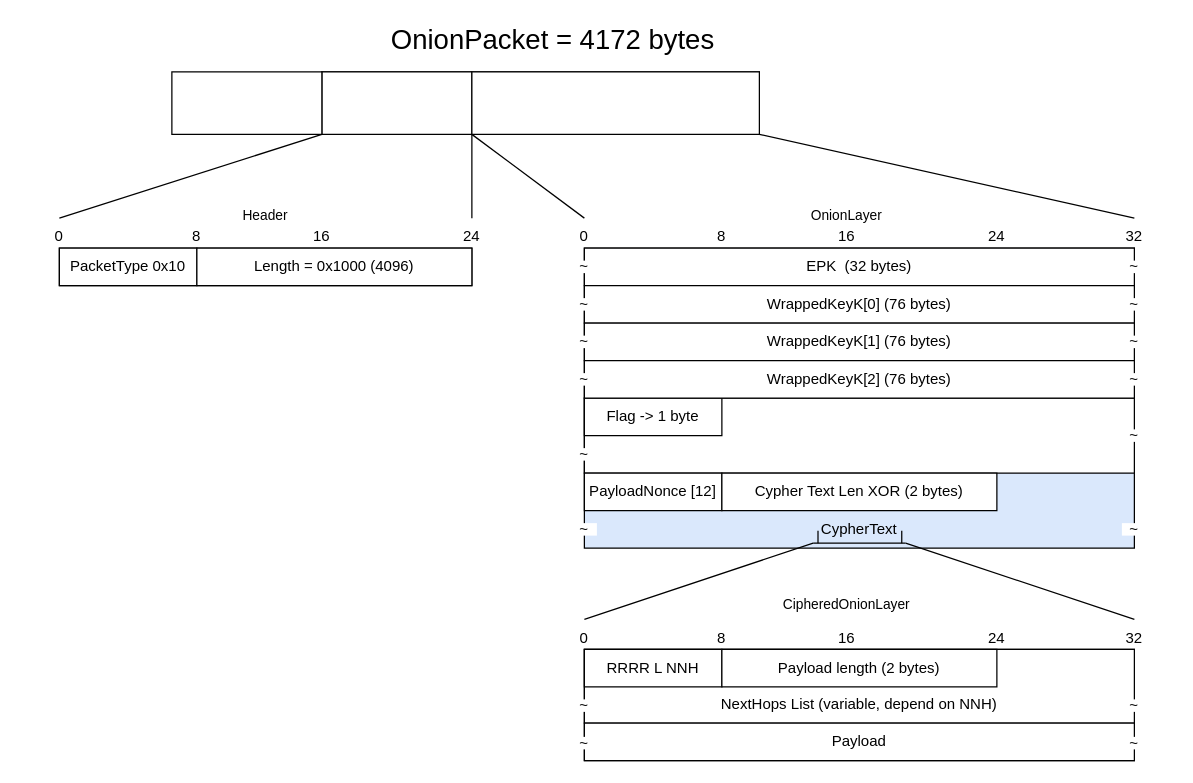
The diagram is 1193 pixels wide and 783 high, and some of its shapes have lost their labels. Each missing label, with the box of its shape:
Data (4096 octets): (471, 71, 759, 134)
Header (3 octets): (321, 71, 472, 134)
PayloadNonce (11 bytes [0:11]): (583, 397, 1134, 473)
TCP/IP: (171, 71, 322, 134)
